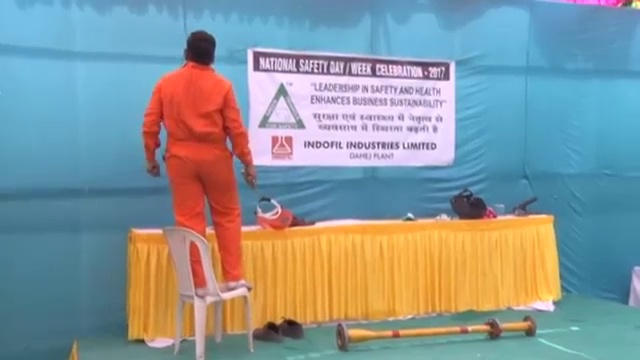helmet_off: (180, 28, 218, 69)
person: (135, 26, 263, 290)
